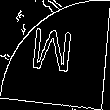M_S: (31, 27, 79, 83)
